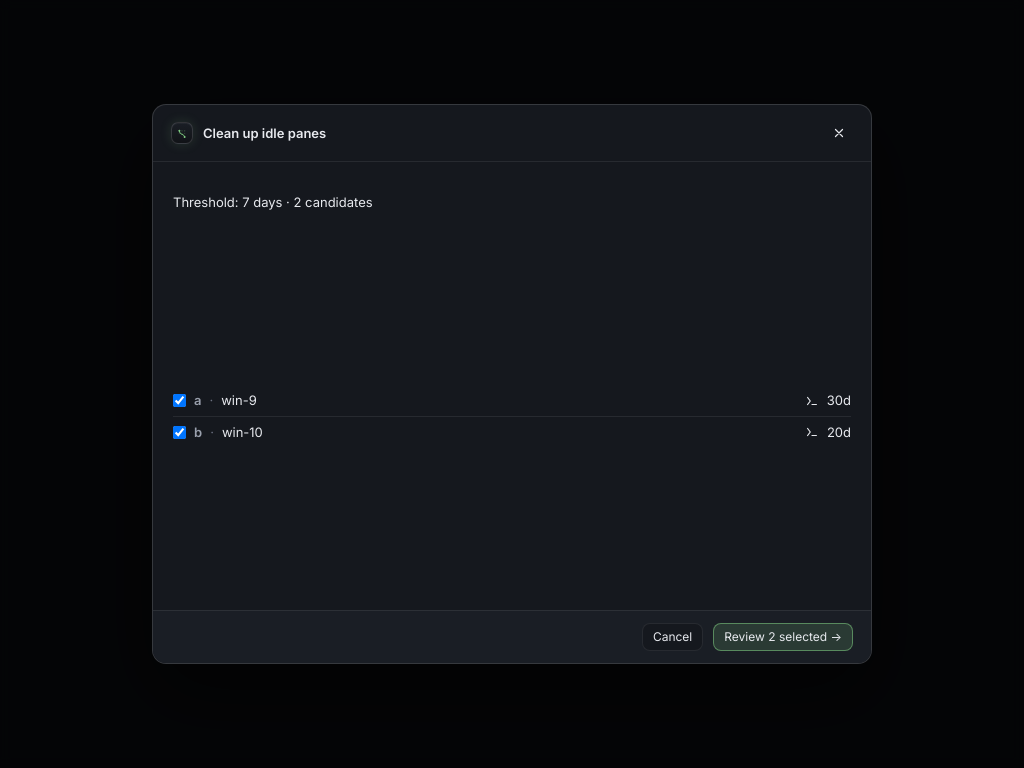
Test case: CleanupModal — Step 1 › toggles row checkbox and updates the Review button count
The width and height of the screenshot is (1024, 768).
expect the button "Review 2 selected →" is shown: met, box [713, 623, 853, 651]
Click the checkbox labelled "a · win-9 30d" at coordinates (180, 400), box [173, 394, 186, 407]
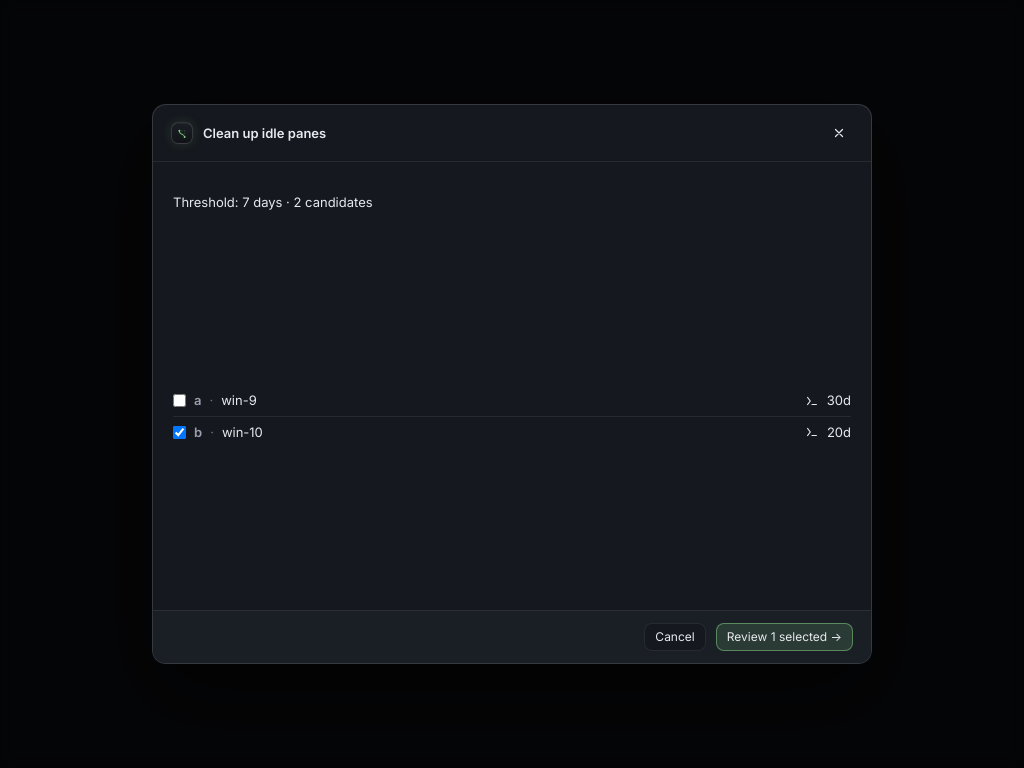
expect the button "Review 1 selected →" is shown: met, box [716, 623, 853, 651]
